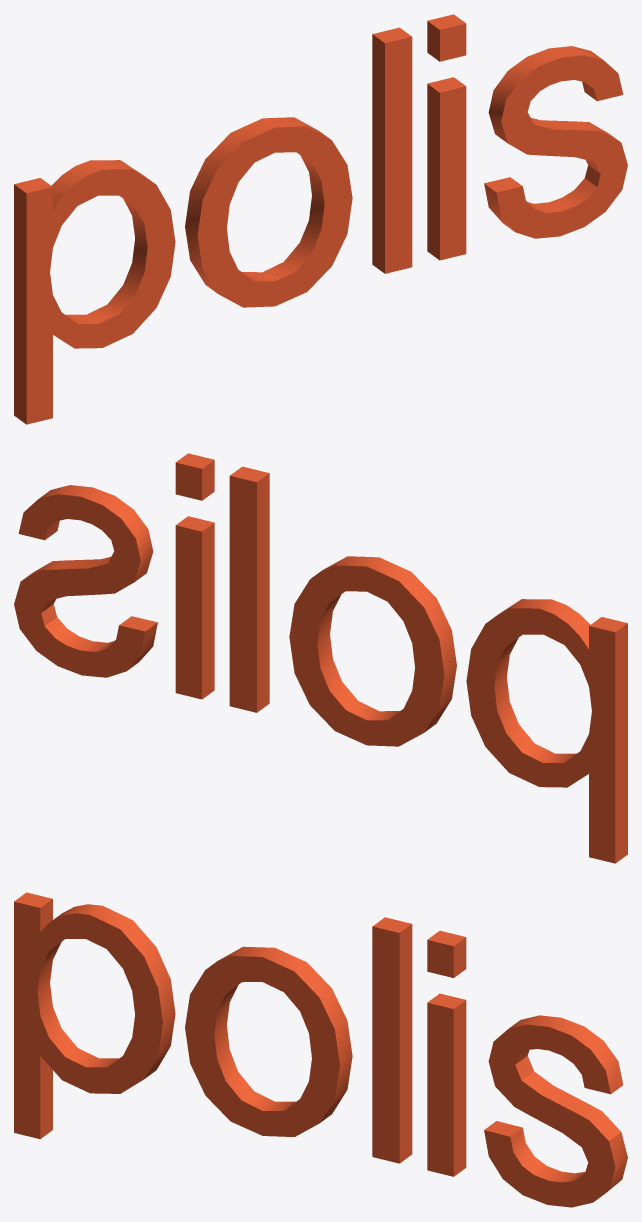
The model's file is polis.fbx.
3 views of the same model, one above another, from view 1: azimuth 30°, elevation 25°; view 2: azimuth 150°, elevation 25°; view 3: azimuth 330°, elevation 25° (orthographic).
Parts seen in each view (by area): view 1: Text; view 2: Text; view 3: Text.
Part boxes in pixels (bbox=[...]): Text: bbox=[14, 14, 627, 424]; Text: bbox=[14, 453, 627, 863]; Text: bbox=[14, 892, 627, 1207].
Size of the model in its own units: 2.77 by 1.29 by 0.1.
